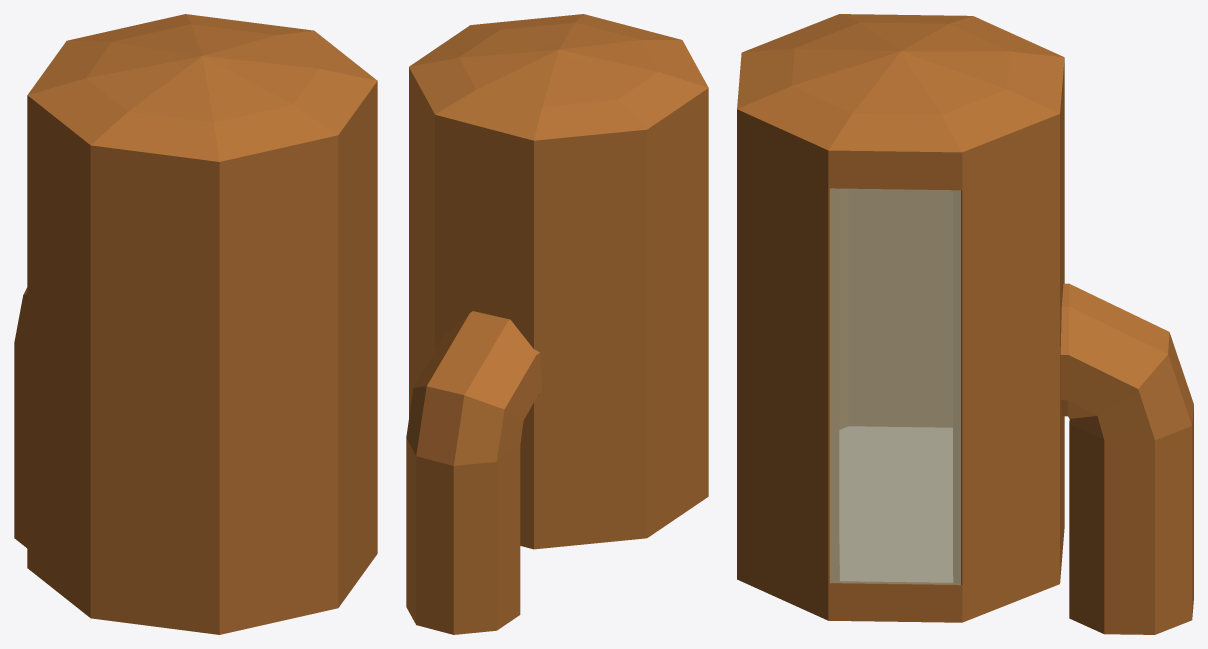
The model's file is VAT10.glb.
3 views of the same model, side by side, from view 1: azimuth 30°, elevation 25°; view 2: azimuth 150°, elevation 25°; view 3: azimuth 270°, elevation 25° (orthographic). The views are drawn at different scales.
Visible parts, largest first — view 1: Cylinder, Cylinder.001; view 2: Cylinder, Cylinder.001; view 3: Cylinder, glass, Cylinder.001, liquidHeight.
Boxes of the visible parts, x1=… form: Cylinder: x1=27, y1=14, x2=377, y2=634; Cylinder.001: x1=14, y1=287, x2=27, y2=547; Cylinder: x1=409, y1=14, x2=708, y2=549; Cylinder.001: x1=406, y1=311, x2=541, y2=634; Cylinder: x1=737, y1=14, x2=1064, y2=622; glass: x1=830, y1=188, x2=960, y2=584; Cylinder.001: x1=1060, y1=283, x2=1193, y2=634; liquidHeight: x1=840, y1=427, x2=952, y2=581.
Size of the model in its own units: 1.82 by 3.44 by 2.54.
